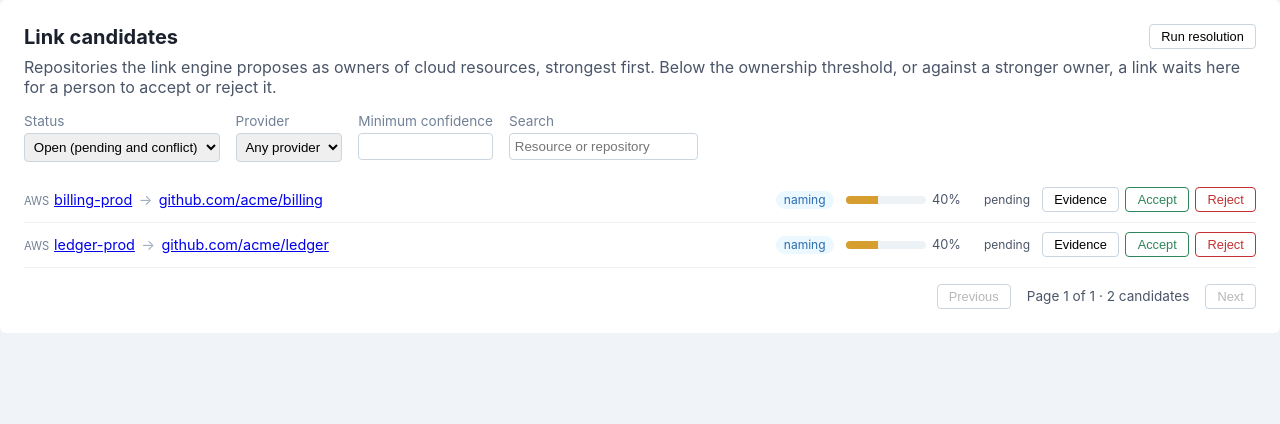
Test: CandidateLinksView › shows a candidate evidence when asked
Click the button with test id "evidence-toggle" in the row of "github.com/acme/billing" at coordinates (1080, 200), box left=1042, top=187, right=1119, bottom=212
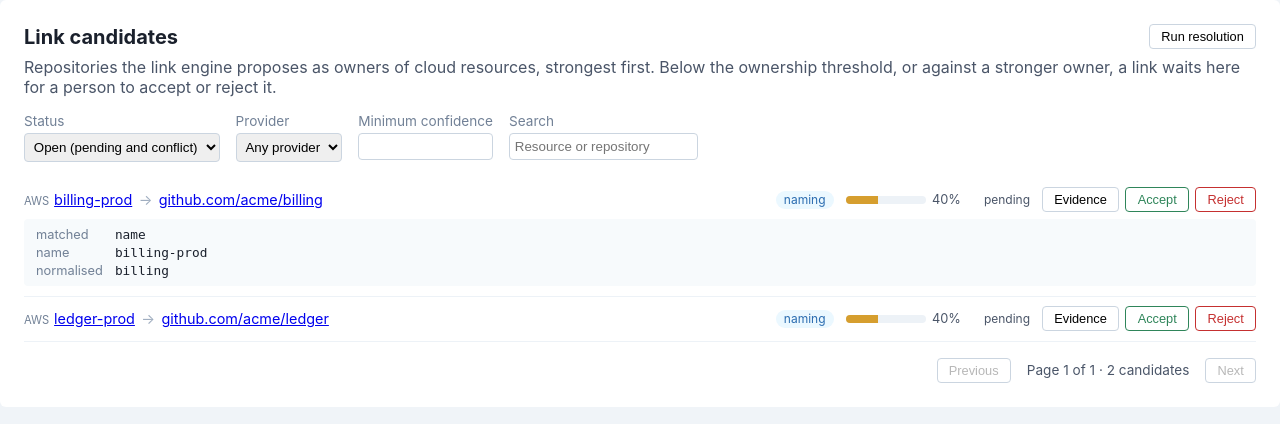
Expected: the element with test id "evidence-list" shows "normalised", left=36, top=263, right=103, bottom=278
Expected: the element with test id "evidence-list" shows "billing-prod", left=115, top=245, right=207, bottom=260
